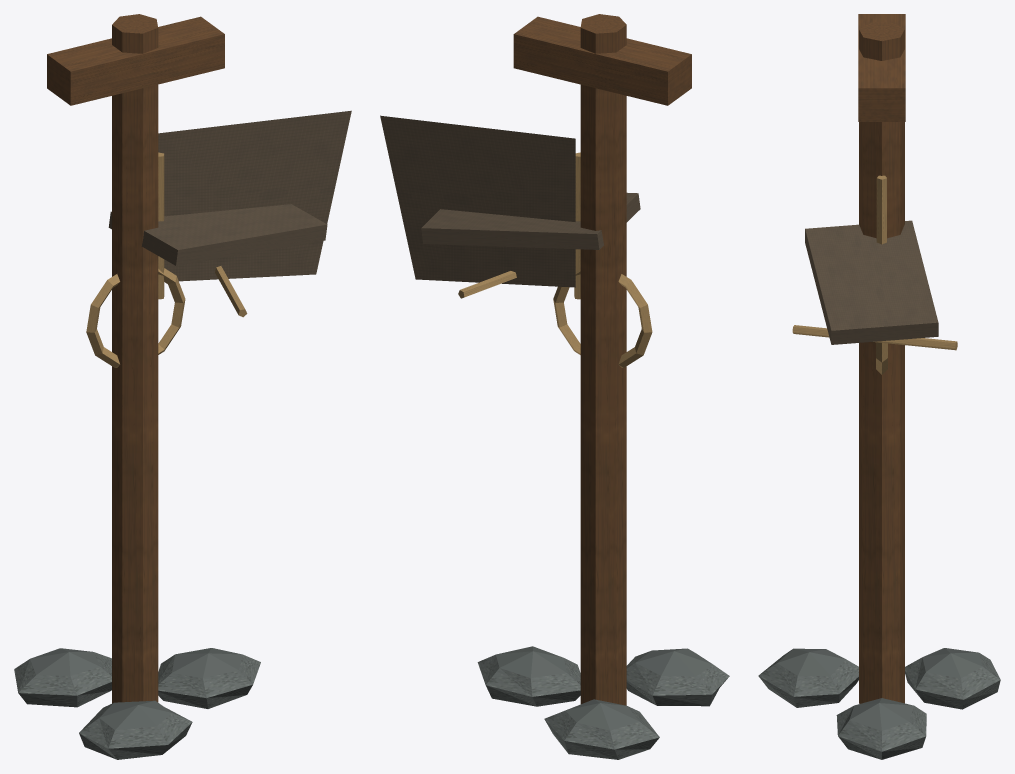
Rendered from en-022_path_marker_stakes__cloth_marked.obj.
3 views of the same model, side by side, from view 1: azimuth 30°, elevation 25°; view 2: azimuth 150°, elevation 25°; view 3: azimuth 270°, elevation 25° (orthographic).
Parts seen in each view (by area): view 1: en-022_path_marker_stakes__cloth_marked; view 2: en-022_path_marker_stakes__cloth_marked; view 3: en-022_path_marker_stakes__cloth_marked.
Boxes of the visible parts, left/top/right/bottom form: en-022_path_marker_stakes__cloth_marked: left=14, top=14, right=351, bottom=759; en-022_path_marker_stakes__cloth_marked: left=380, top=14, right=729, bottom=759; en-022_path_marker_stakes__cloth_marked: left=758, top=14, right=1000, bottom=759.
Size of the model in its own units: 0.5174 by 1.1 by 0.3589.
Materials: 4 (4 with a texture image).
